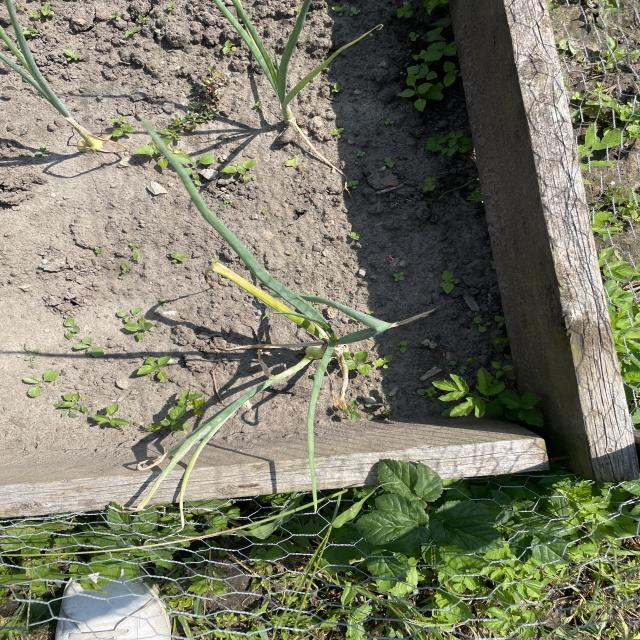Onion: (180, 246, 401, 441), (0, 0, 105, 153), (236, 0, 311, 134)
weed: (396, 0, 466, 116), (432, 362, 548, 428), (48, 314, 113, 363), (183, 147, 260, 184), (158, 383, 204, 434), (120, 295, 158, 347), (122, 350, 174, 383), (86, 401, 138, 433), (15, 371, 64, 396), (48, 392, 88, 418), (96, 115, 136, 140), (419, 174, 444, 199)
